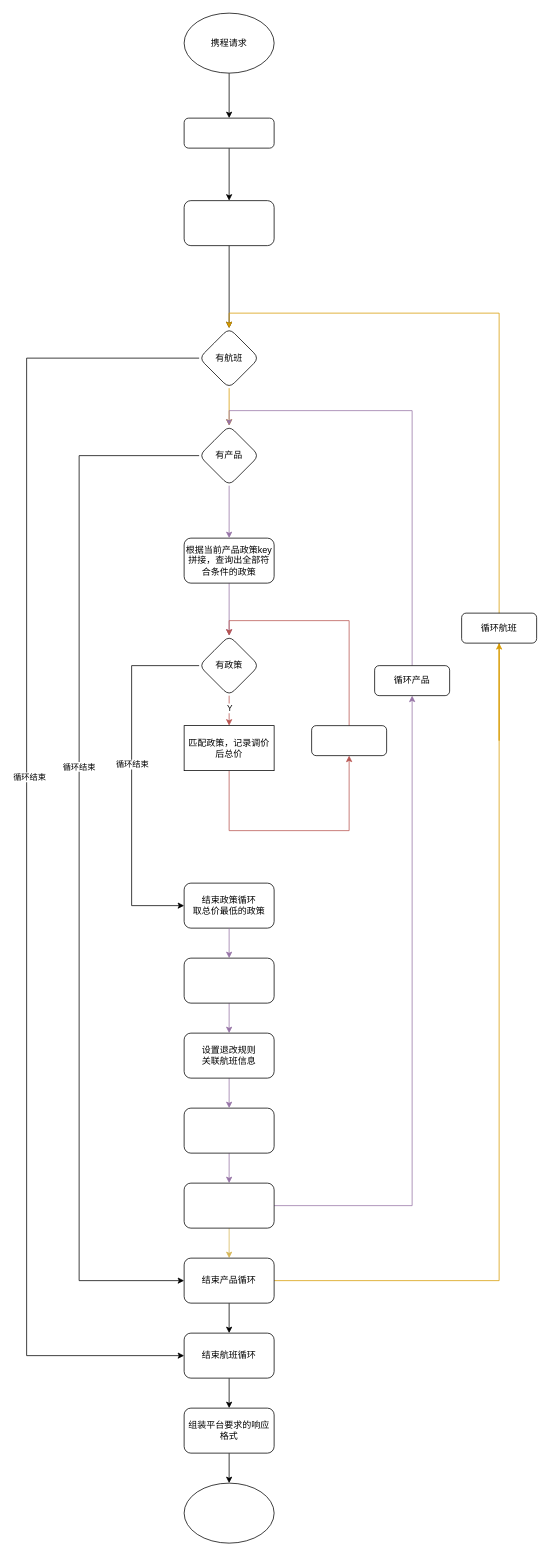
Image size: 550x1556. Some labels were removed from this diagram. Here are the shapes that lost their labels. From the top down, the box of each, then its label:
(183, 117, 274, 148): otaSale search()
(183, 200, 274, 246): getData() 取报价信息
(311, 725, 387, 756): 循环政策
(183, 957, 274, 1003): 包装价格、税费
(183, 1107, 274, 1153): 根据当前产品类型 赋予不同的属性
(183, 1182, 274, 1228): 添加到报价信息集合
(183, 1482, 274, 1543): 结束
